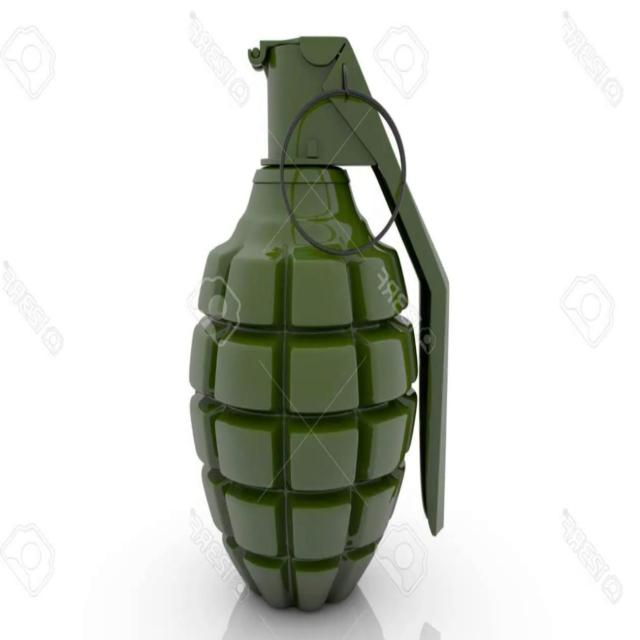grenade: (189, 37, 451, 614)
